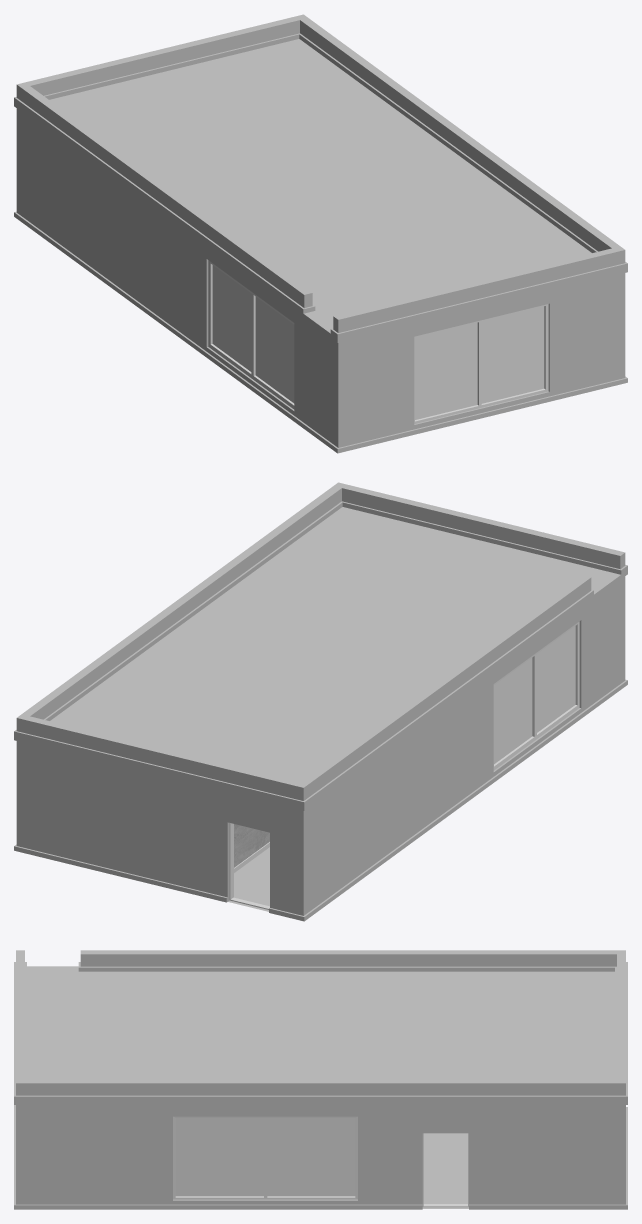
The model's file is Shop.fbx.
3 views of the same model, one above another, from view 1: azimuth 30°, elevation 25°; view 2: azimuth 150°, elevation 25°; view 3: azimuth 270°, elevation 25° (orthographic). The views are drawn at different scales.
Parts seen in each view (by area): view 1: Ceiling, Outer Walls, WindowPanes, Outer Lista Top, Outer Lista Bottom, WindowFrames; view 2: Ceiling, Outer Walls, Outer Lista Top, WindowPanes, Outer Lista Bottom, WindowFrames, Floor, Inner Walls, Listas; view 3: Ceiling, Outer Walls, WindowPanes, Outer Lista Top, Outer Lista Bottom, Floor, WindowFrames, Listas.
Boxes of the visible parts, x1,y1,x2,y2 form: Ceiling: (16,14,625,332); Outer Walls: (16,108,625,447); WindowPanes: (212,265,544,419); Outer Lista Top: (14,33,627,342); Outer Lista Bottom: (14,211,627,453); WindowFrames: (208,260,548,423); Ceiling: (16,482,625,800); Outer Walls: (16,576,625,915); Outer Lista Top: (14,501,627,810); WindowPanes: (494,626,575,764); Outer Lista Bottom: (14,679,627,921); WindowFrames: (493,621,579,770); Floor: (228,847,269,911); Inner Walls: (234,824,269,867); Listas: (229,823,269,909); Ceiling: (16,950,625,1095); Outer Walls: (16,1105,625,1204); WindowPanes: (175,1118,355,1196); Outer Lista Top: (14,962,627,1104); Outer Lista Bottom: (14,1105,627,1209); Floor: (422,1133,468,1208); WindowFrames: (173,1116,357,1199); Listas: (422,1133,468,1207).
Bounding box in the file's own units: 860 × 410 × 1660.
